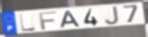4: (83, 8, 100, 27)
7: (122, 4, 140, 24)
A: (60, 10, 82, 29)
F: (38, 11, 58, 31)
J: (104, 5, 120, 26)
L: (19, 13, 38, 33)
